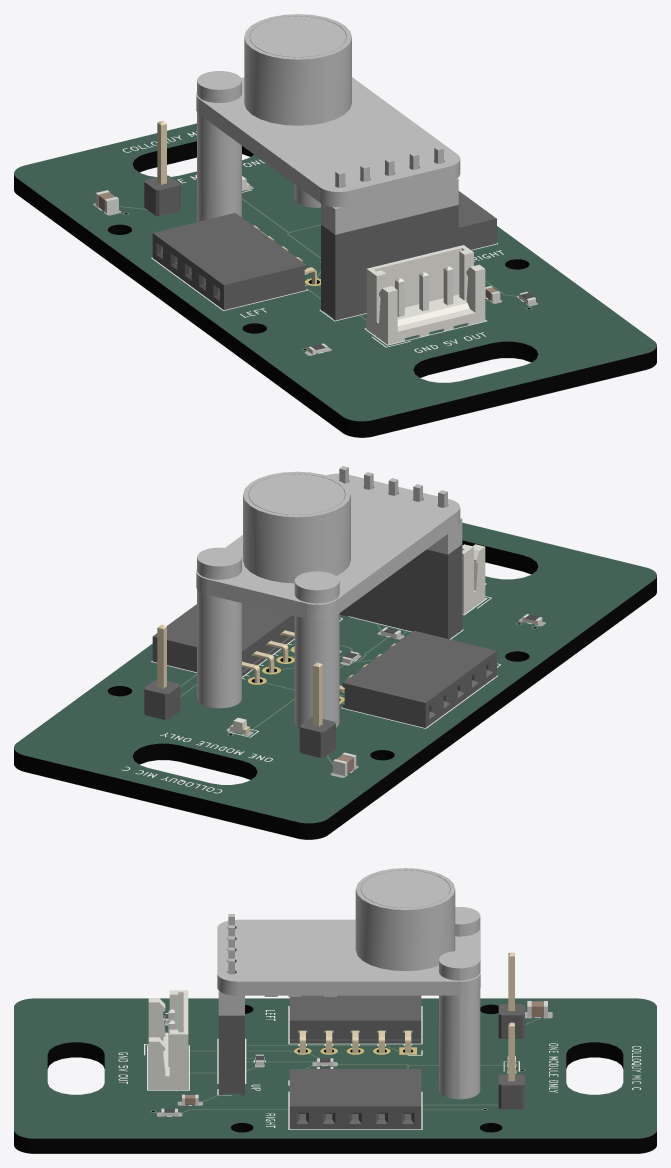
The model's file is microphone-flex-up.glb.
3 renders of one model, top to bottom at view 1: azimuth 30°, elevation 25°; view 2: azimuth 150°, elevation 25°; view 3: azimuth 270°, elevation 25°, orthographic. The views are drawn at different scales.
Visible parts, largest first — view 1: microphone-flex-up_visual_layers_1, microphone-flex-up_visual_layers_4, M1.001, J2, J1, M1, H4, TP2, J3, microphone-flex-up_visual_layers_7, microphone-flex-up_visual_layers_6; view 2: microphone-flex-up_visual_layers_1, microphone-flex-up_visual_layers_4, M1.001, J2, M1, H3, H4, J3, TP2, TP1, J1, microphone-flex-up_visual_layers_7 (+1 smaller); view 3: microphone-flex-up_visual_layers_1, microphone-flex-up_visual_layers_4, M1.001, J3, J2, H3, J1, M1, microphone-flex-up_visual_layers_7, TP1, TP2, microphone-flex-up_visual_layers_6 (+2 smaller).
Part boxes in pixels (x1=…): microphone-flex-up_visual_layers_1: x1=14, y1=124, x2=656, y2=437; microphone-flex-up_visual_layers_4: x1=14, y1=123, x2=656, y2=421; M1.001: x1=196, y1=14, x2=460, y2=234; J2: x1=152, y1=213, x2=316, y2=310; J1: x1=366, y1=245, x2=485, y2=344; M1: x1=321, y1=205, x2=458, y2=320; H4: x1=197, y1=71, x2=241, y2=221; TP2: x1=144, y1=120, x2=180, y2=215; J3: x1=458, y1=191, x2=496, y2=249; microphone-flex-up_visual_layers_7: x1=98, y1=131, x2=523, y2=353; microphone-flex-up_visual_layers_6: x1=15, y1=154, x2=655, y2=437; microphone-flex-up_visual_layers_1: x1=14, y1=523, x2=656, y2=839; microphone-flex-up_visual_layers_4: x1=14, y1=522, x2=656, y2=823; M1.001: x1=196, y1=466, x2=462, y2=620; J2: x1=339, y1=630, x2=496, y2=727; M1: x1=339, y1=544, x2=462, y2=639; H3: x1=197, y1=547, x2=241, y2=708; H4: x1=294, y1=571, x2=339, y2=728; J3: x1=152, y1=603, x2=294, y2=683; TP2: x1=299, y1=662, x2=335, y2=757; TP1: x1=144, y1=624, x2=180, y2=719; J1: x1=462, y1=544, x2=485, y2=614; microphone-flex-up_visual_layers_7: x1=122, y1=583, x2=531, y2=793; microphone-flex-up_visual_layers_1: x1=14, y1=999, x2=656, y2=1153; microphone-flex-up_visual_layers_4: x1=14, y1=998, x2=656, y2=1138; M1.001: x1=217, y1=868, x2=480, y2=1015; J3: x1=289, y1=1069, x2=421, y2=1129; J2: x1=289, y1=995, x2=421, y2=1053; H3: x1=439, y1=951, x2=480, y2=1099; J1: x1=148, y1=990, x2=188, y2=1089; M1: x1=218, y1=1015, x2=244, y2=1095; microphone-flex-up_visual_layers_7: x1=118, y1=1006, x2=641, y2=1129; TP1: x1=498, y1=1022, x2=524, y2=1109; TP2: x1=498, y1=952, x2=524, y2=1038; microphone-flex-up_visual_layers_6: x1=16, y1=1057, x2=654, y2=1153.
Size of the model in its own units: 0.032 by 0.0224 by 0.062.
